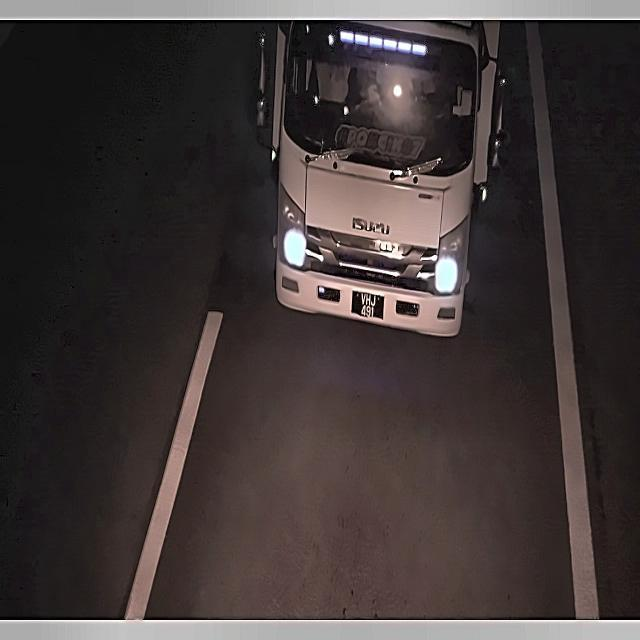car: (347, 289, 388, 321)
